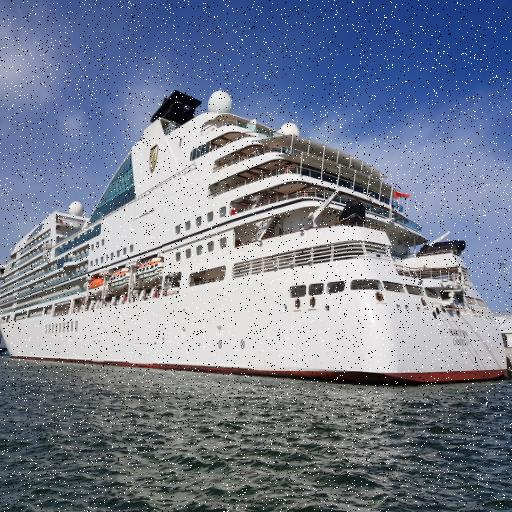cruises: (1, 85, 512, 386)
